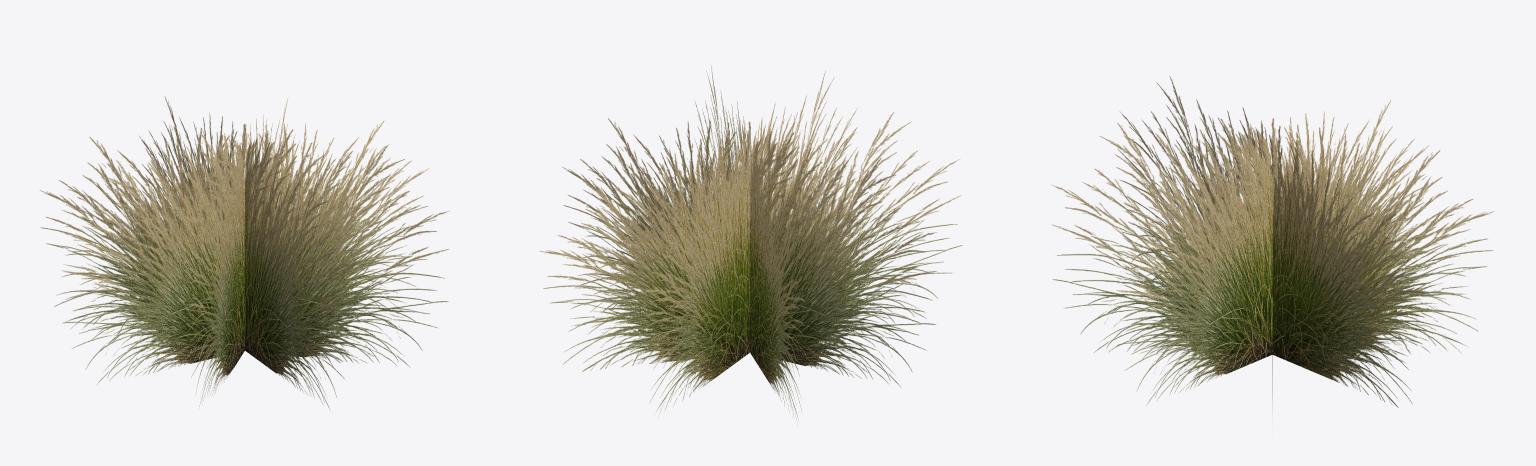
File: Pastizales_altos_pampeanos.glb
3 renders of one model, left to right at view 1: azimuth 30°, elevation 25°; view 2: azimuth 150°, elevation 25°; view 3: azimuth 270°, elevation 25°, orthographic. The views are drawn at different scales.
Parts seen in each view (by area): view 1: Pastizales alto pampeano PNG.002; view 2: Pastizales alto pampeano PNG.002; view 3: Pastizales alto pampeano PNG.002.
Boxes of the visible parts, x1,y1,x2,y2 form: Pastizales alto pampeano PNG.002: [40, 96, 448, 409]; Pastizales alto pampeano PNG.002: [539, 66, 962, 419]; Pastizales alto pampeano PNG.002: [1051, 76, 1494, 407].
Size of the model in its own units: 1.17 by 0.6914 by 1.27.
1 material, 1 textured.
